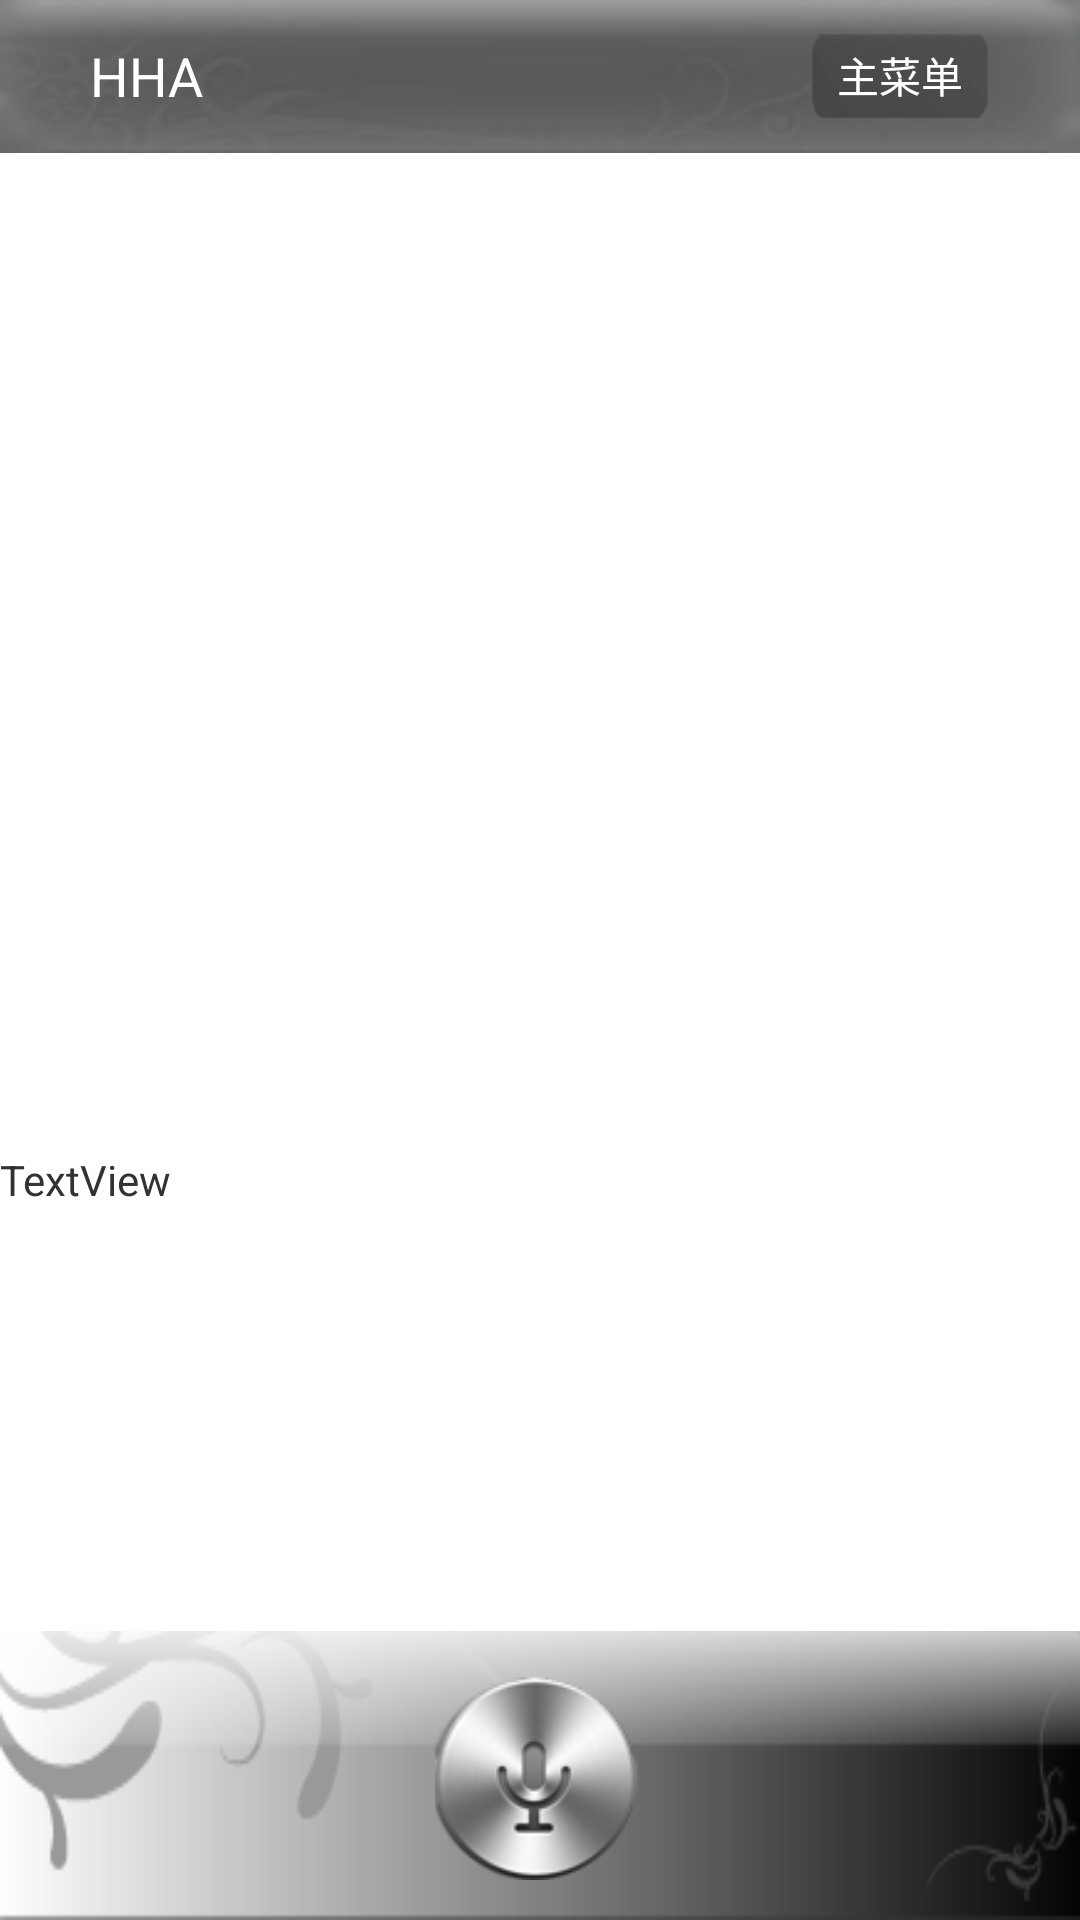

Icons on this 1080 × 1920 Android screen, each with the point to tap as [x,y]:
recordbutton: [540,1775]
